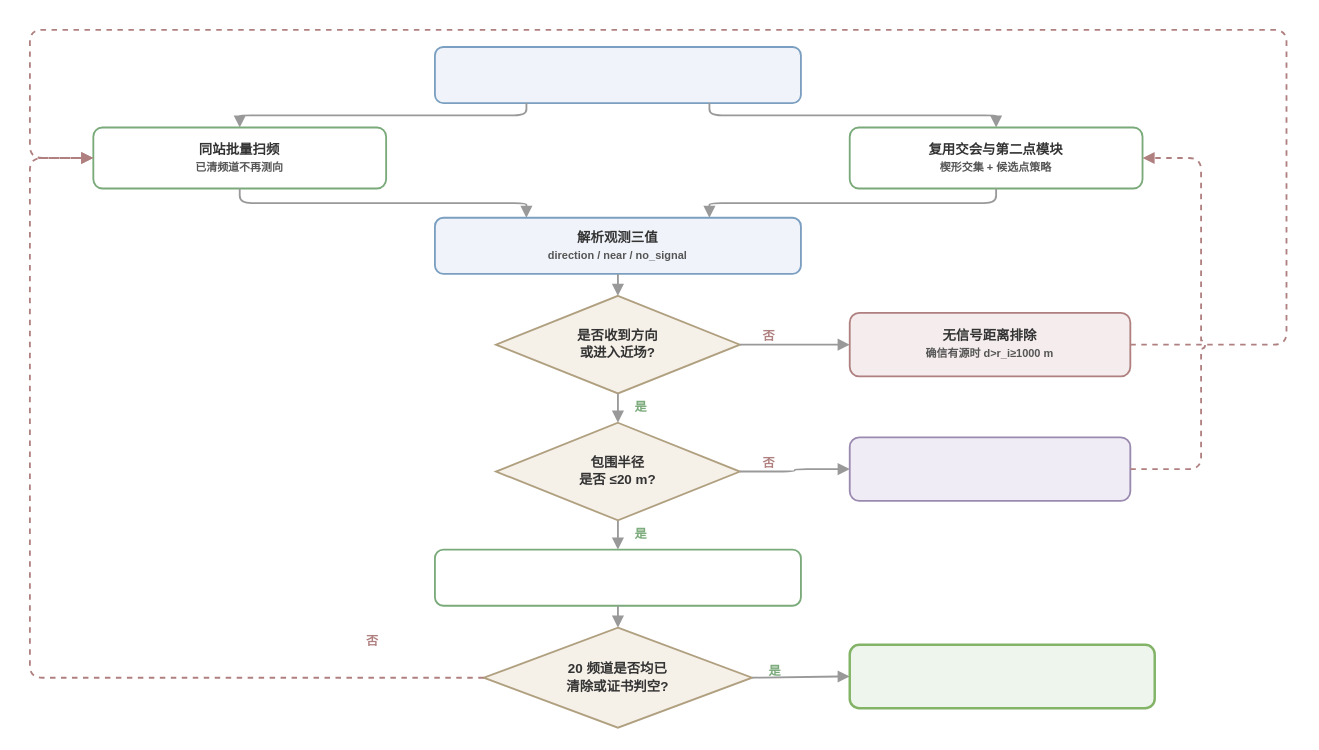
This 1319x750 diagram has some shape labels left out. The shapes that lost their labels are listed below. From the top down, each one's centre as x and y in pixels, then its label:
[617,74]: 输入初值与全向场景 起点 (0,0)，频道 c=1；N∈[10,16] 未知
[989,468]: 调用第二点并继续交会 拉开基线；同点重复不计新样本
[617,577]: 确定清除并更新 K 成功不计切换费；二次清除不加 K
[1001,676]: 输出 GREEDY_FAST 在线策略 先全清 K=N，再缩短任务时间 T
